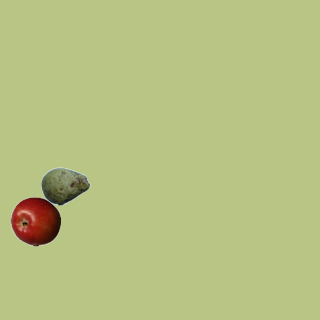Apple Braeburn: (10, 196, 60, 246)
Pear Stone: (40, 161, 90, 211)
